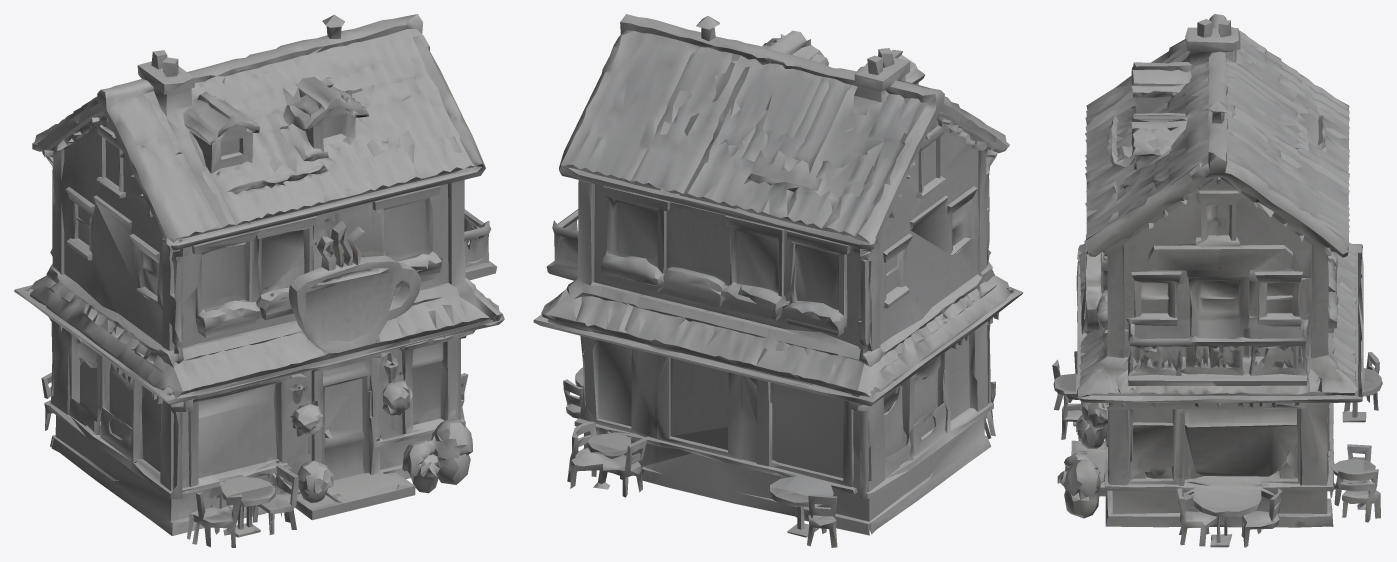
The model's file is B_CAFE_grey.glb.
The picture shows the model from 3 angles, left to right: view 1: azimuth 30°, elevation 25°; view 2: azimuth 150°, elevation 25°; view 3: azimuth 270°, elevation 25°; orthographic projection. The views are drawn at different scales.
Visible parts, largest first — view 1: geometry_0; view 2: geometry_0; view 3: geometry_0.
Boxes of the visible parts, box(x1,y1,x2,y2) form: geometry_0: box(14, 14, 504, 547); geometry_0: box(533, 14, 1023, 547); geometry_0: box(1052, 14, 1382, 547).
Size of the model in its own units: 0.8987 by 0.9984 by 0.7539.
Materials: 1 (1 with a texture image).
